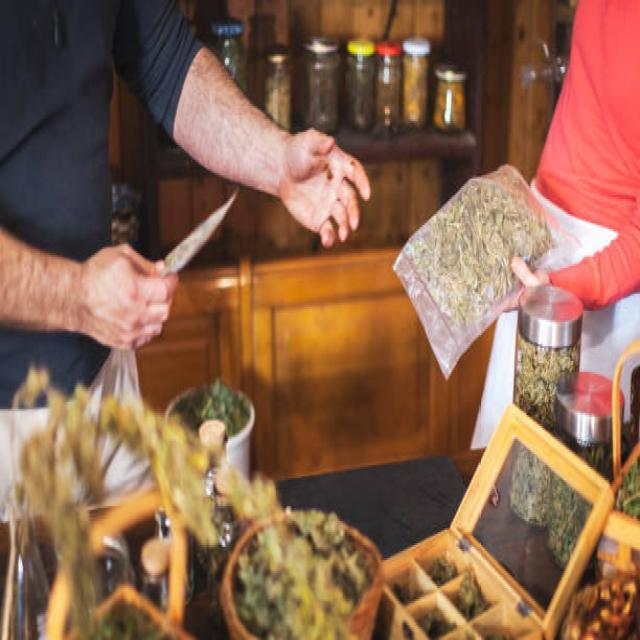faca: (80, 151, 238, 387)
